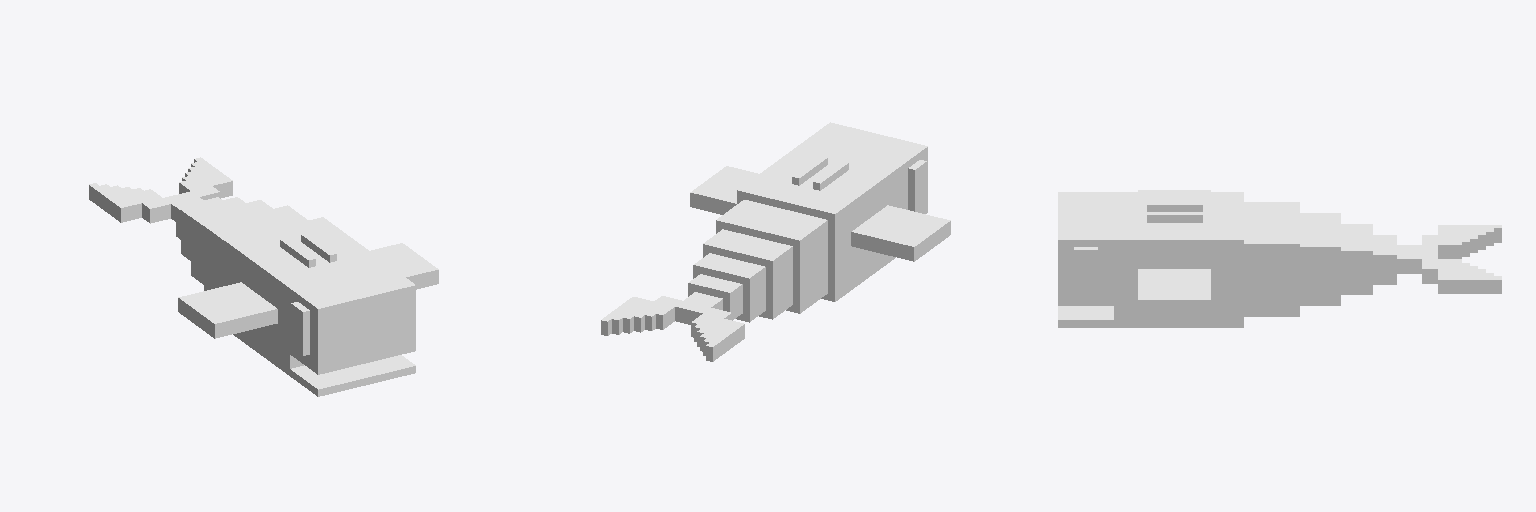
Rendered from Shark.obj.
3 renders of one model, left to right at view 1: azimuth 30°, elevation 25°; view 2: azimuth 150°, elevation 25°; view 3: azimuth 270°, elevation 25°, orthographic.
Parts seen in each view (by area): view 1: Shark; view 2: Shark; view 3: Shark.
Boxes of the visible parts, box(x1,y1,x2,y2) form: Shark: box(89, 157, 438, 396); Shark: box(601, 122, 950, 361); Shark: box(1058, 190, 1501, 327).
Bounding box in the file's own units: 32 × 13 × 55.